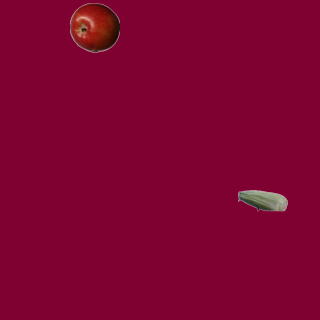Apple Braeburn: (69, 2, 119, 52)
Corn Husk: (237, 175, 287, 225)
